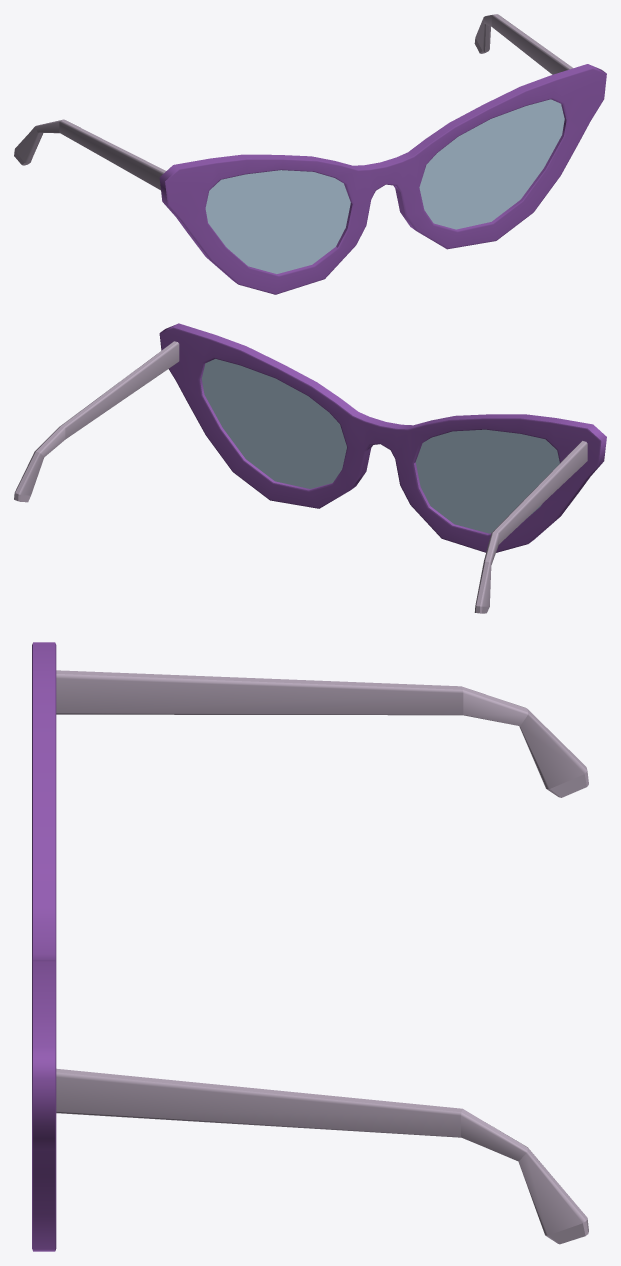
The model's file is Glasses_15_02.fbx.
3 renders of one model, top to bottom at view 1: azimuth 30°, elevation 25°; view 2: azimuth 150°, elevation 25°; view 3: azimuth 270°, elevation 25°, orthographic. The views are drawn at different scales.
Parts seen in each view (by area): view 1: Glasses_15_02; view 2: Glasses_15_02; view 3: Glasses_15_02.
Boxes of the visible parts, bbox=[...] form: Glasses_15_02: bbox=[14, 14, 606, 294]; Glasses_15_02: bbox=[14, 323, 606, 613]; Glasses_15_02: bbox=[32, 642, 588, 1251].
Bounding box in the file's own units: 39.16 × 11.96 × 20.19.
